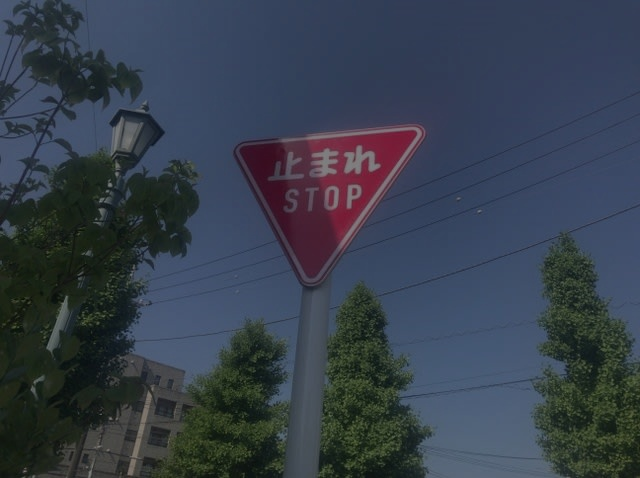Regulatory_sign_triangle: (228, 116, 442, 286)
